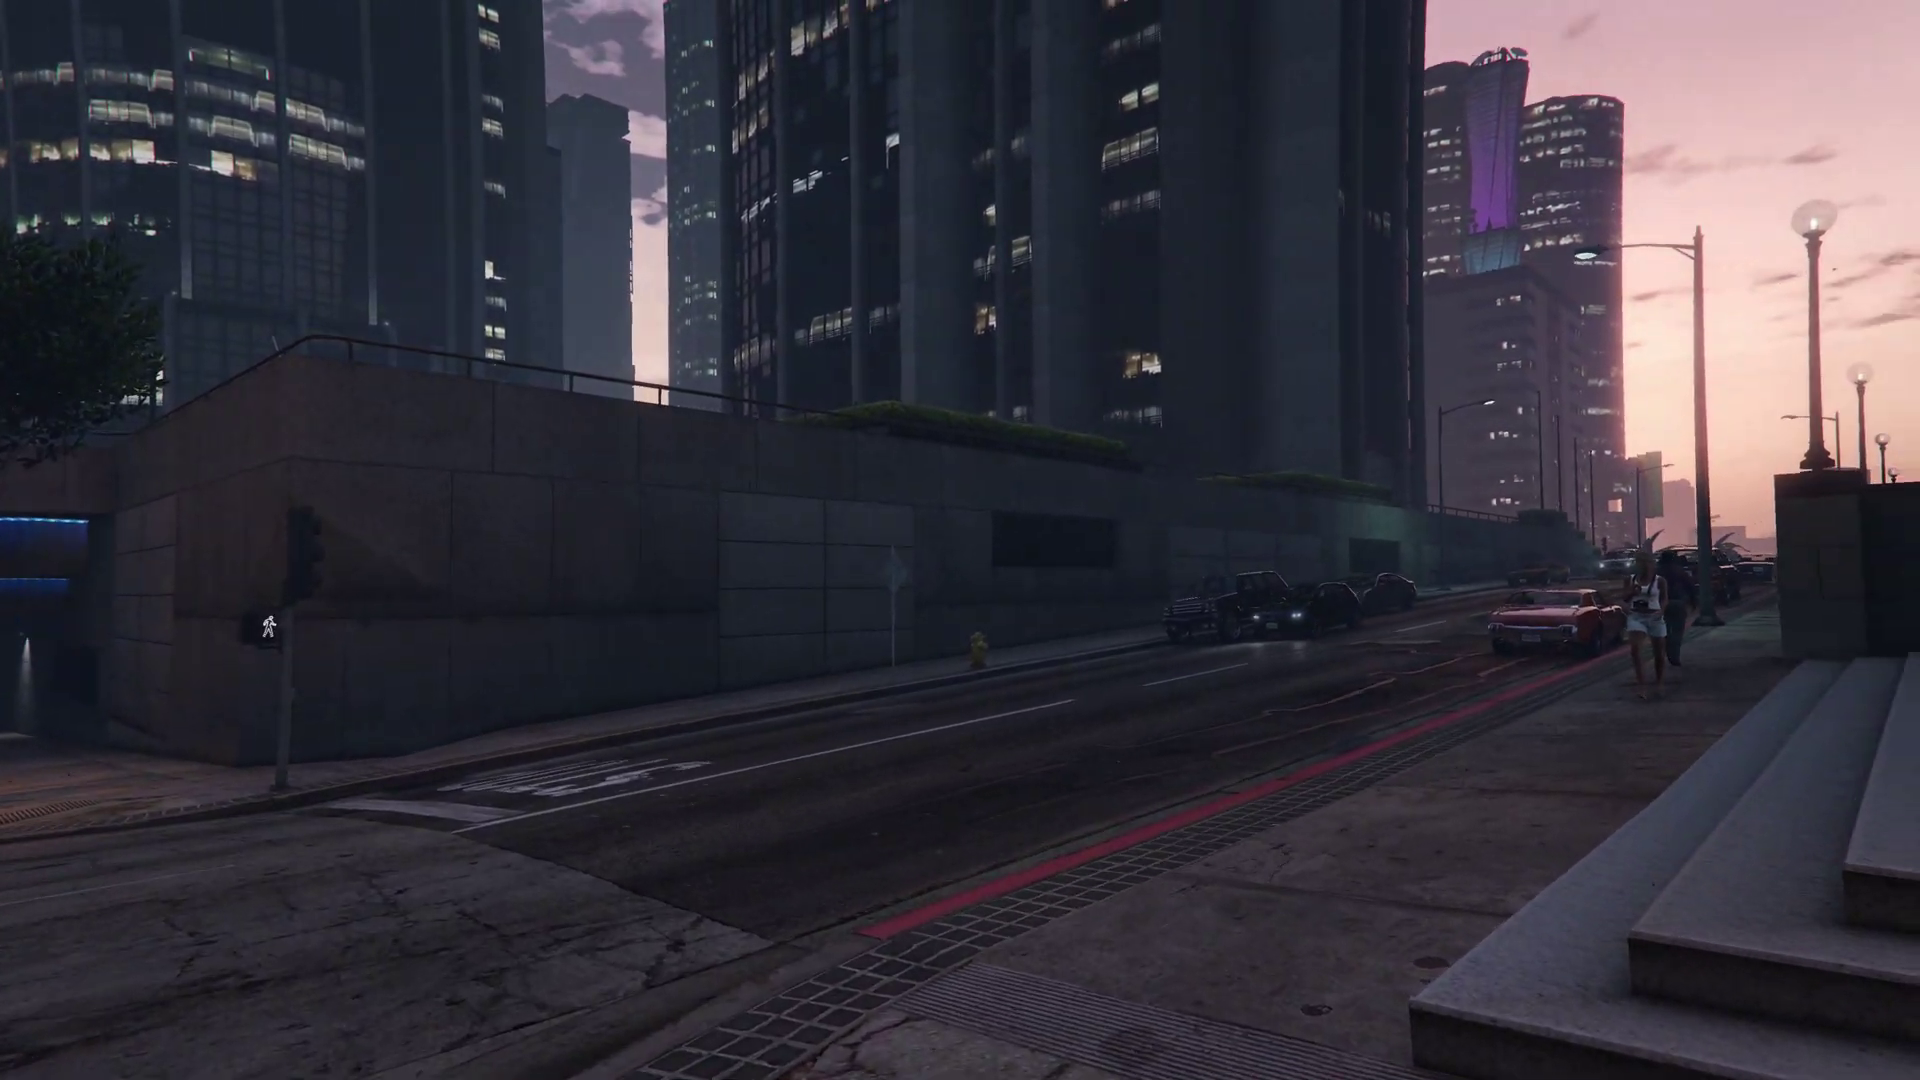car: (1487, 588, 1623, 660), (1161, 569, 1288, 637), (1254, 578, 1360, 639), (1662, 548, 1739, 600), (1353, 572, 1417, 614), (1505, 560, 1567, 587), (1594, 547, 1638, 578), (1736, 553, 1779, 583)
person: (1625, 553, 1667, 697), (1659, 549, 1696, 663)
traffic light: (246, 609, 283, 649)
